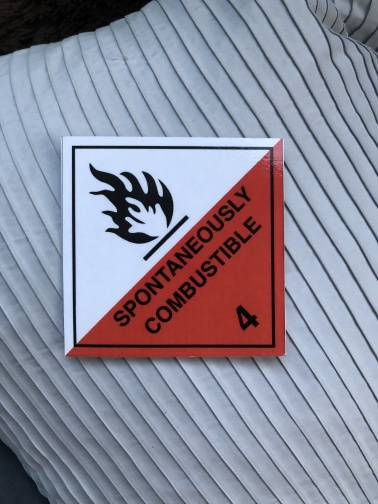SpontaneouslyCombustible: (62, 137, 286, 357)
